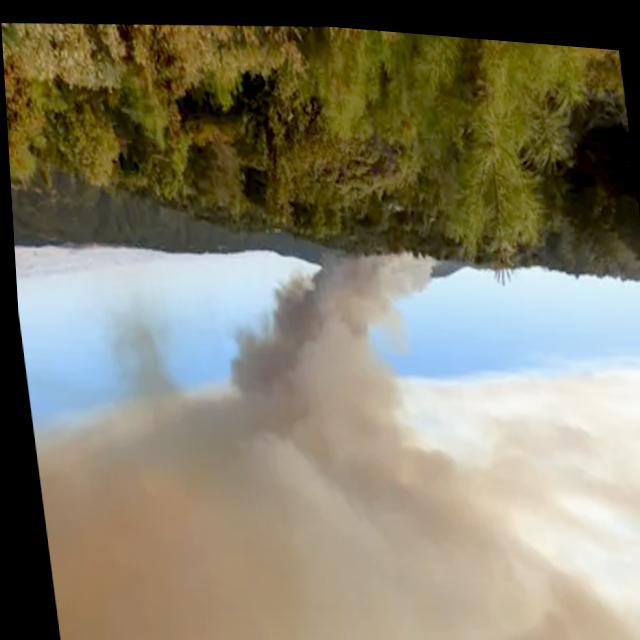no_helmet: (209, 213, 456, 471)
